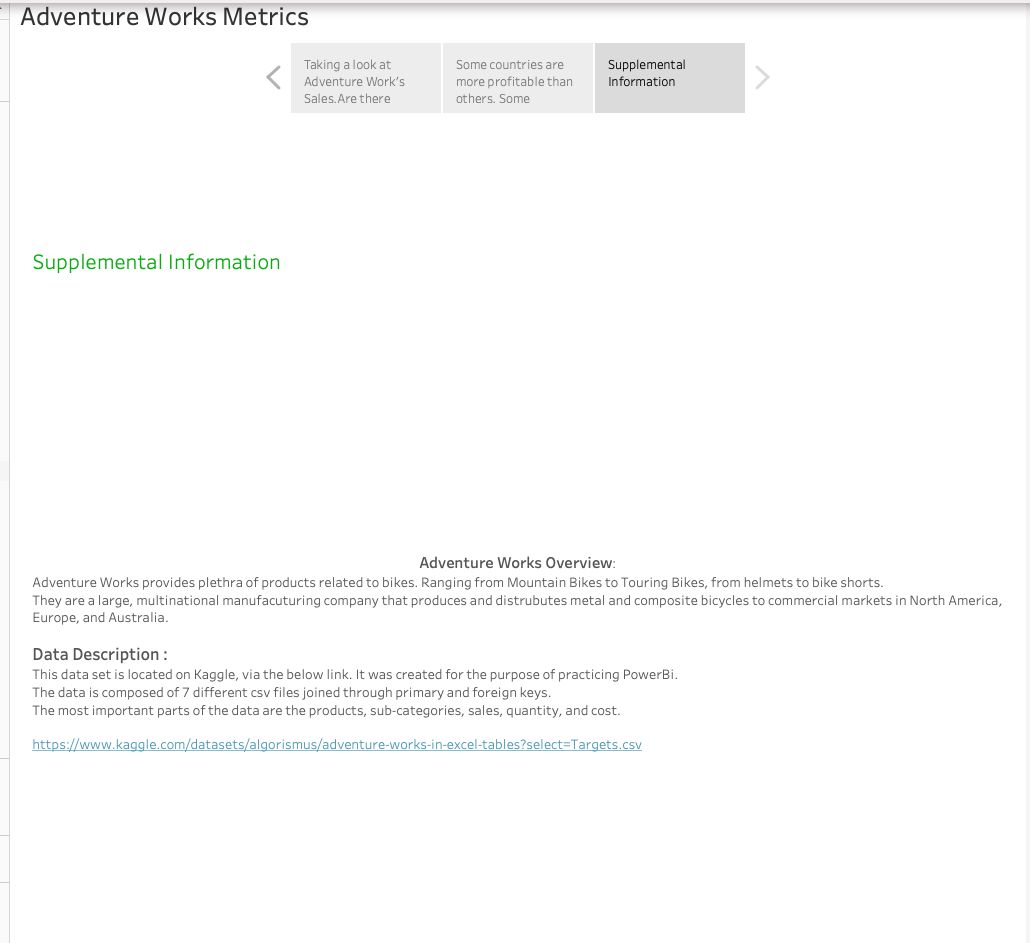

What the dashboard file says about the page in this screenshot:
{"tool":"tableau","page":{"name":"Dashboard 3","canvas":[1000,800],"ordinal":2},"visuals":[{"type":"text","box":[8,8,984,258]},{"type":"text","box":[8,266,984,526]}]}

Visuals, with their boxes on the page's 1000x800 design canvas (x1, y1, x2, y2). These are canvas units, not pixel positions in the 1030x943 screenshot, which may show the page scaled, cropped or inside an application window:
text: x1=8 y1=8 x2=992 y2=266
text: x1=8 y1=266 x2=992 y2=792
